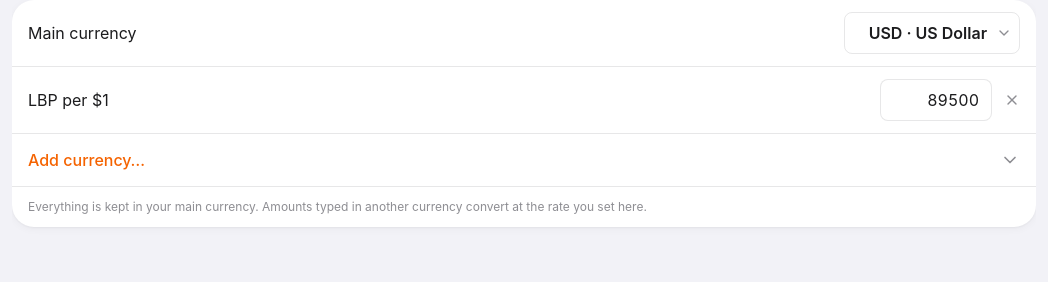
Scenario: CurrencySettings › surfaces an error from switching the main currency
The width and height of the screenshot is (1048, 282).
Select "EUR · Euro" in the dropdown labelled "Main currency" at (932, 33), box [844,12,1020,54]
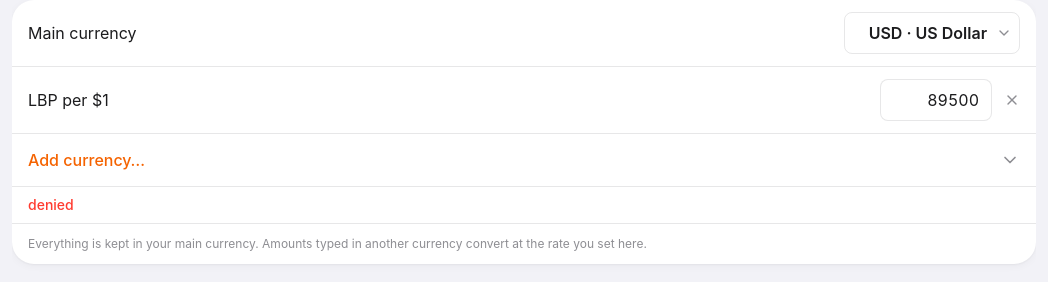
Expected: the text "denied" is shown, [12,186,1036,223]
